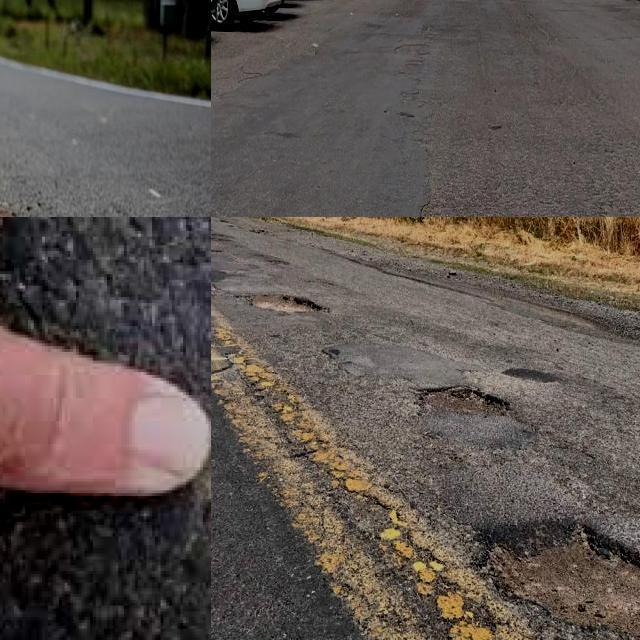Pothole: (493, 520, 640, 640), (413, 385, 510, 421), (246, 297, 323, 313)
